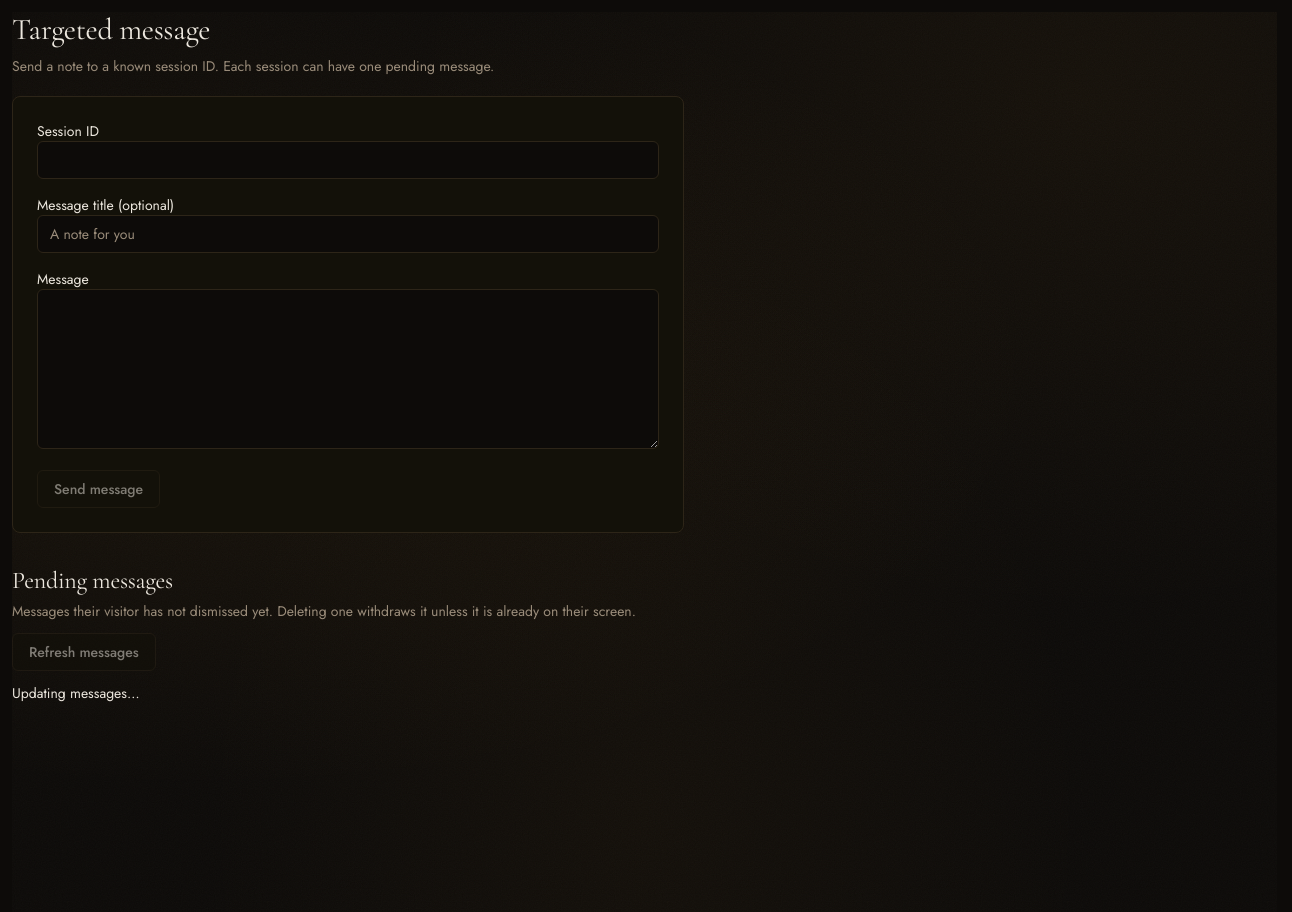
Test case: queues a message only once while pending and clears the form on success
The width and height of the screenshot is (1292, 912).
In the field labelled "Session ID": (348, 160) [37, 141, 659, 179], type " visitor-id "
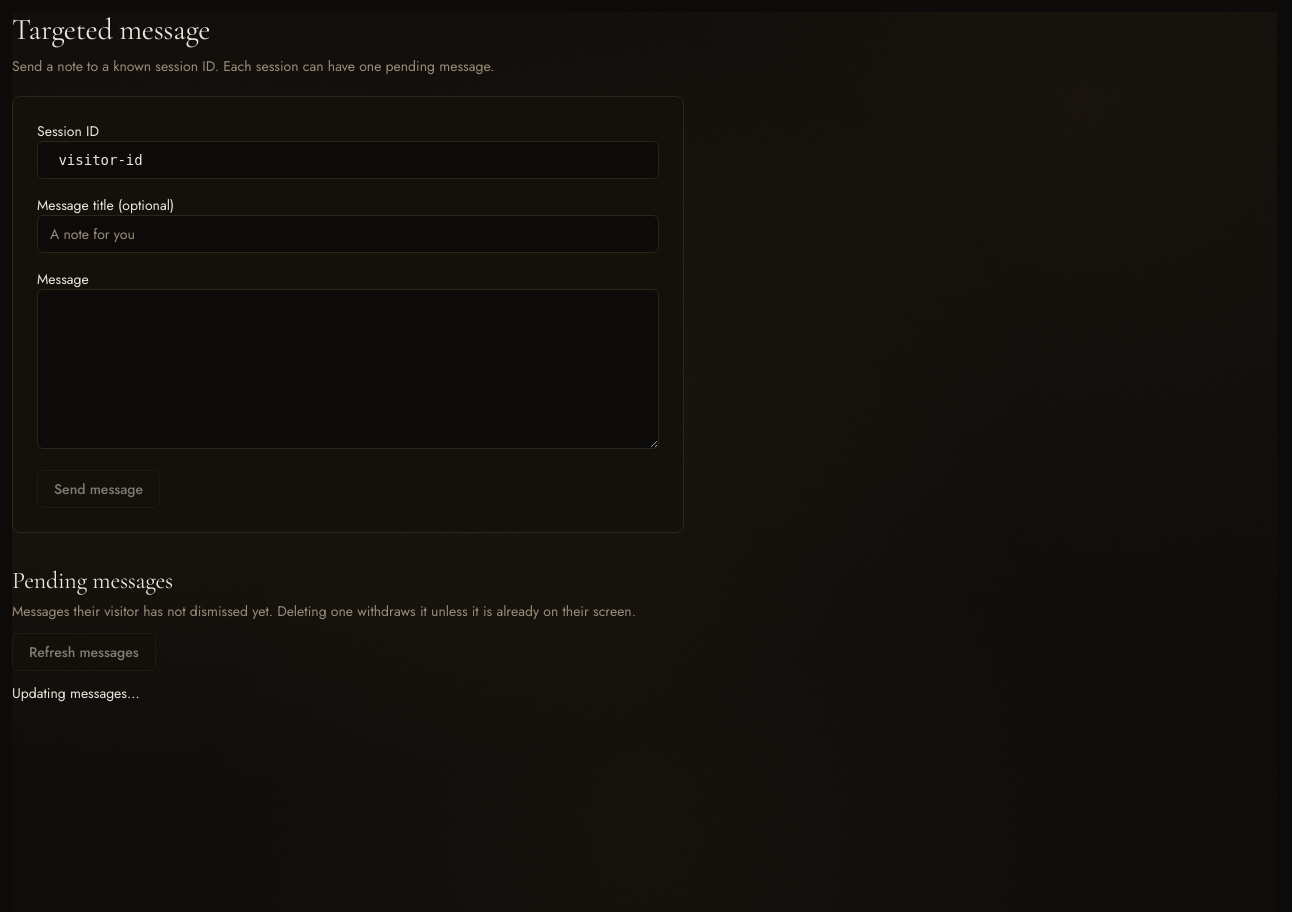
In the field labelled "Message title (optional)": (348, 234) [37, 215, 659, 253], type " Hello "
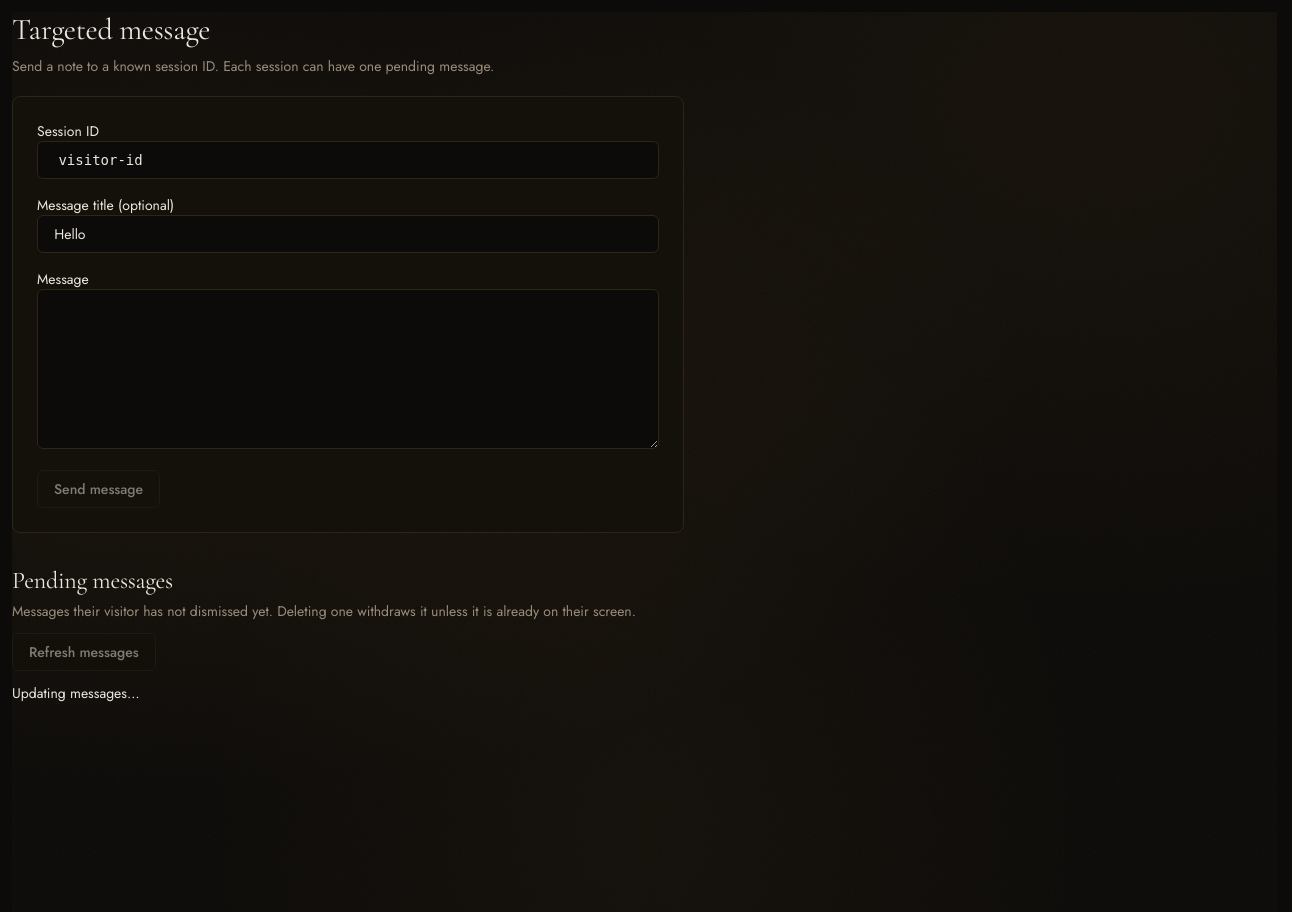
In the text box labelled "Message": (348, 369) [37, 289, 659, 449], type " A note "
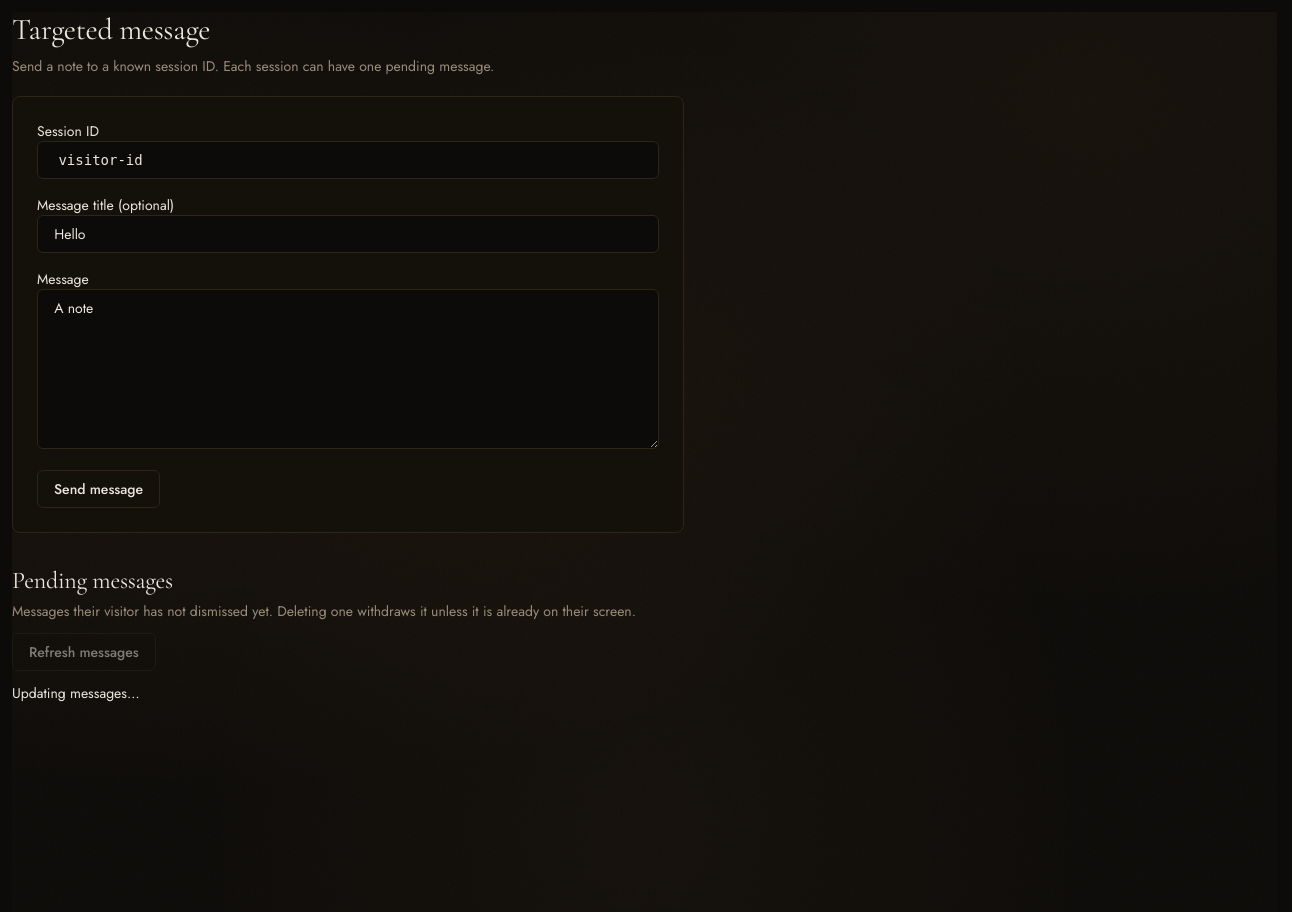
Click the button "Send message": click(99, 489) [37, 470, 160, 508]
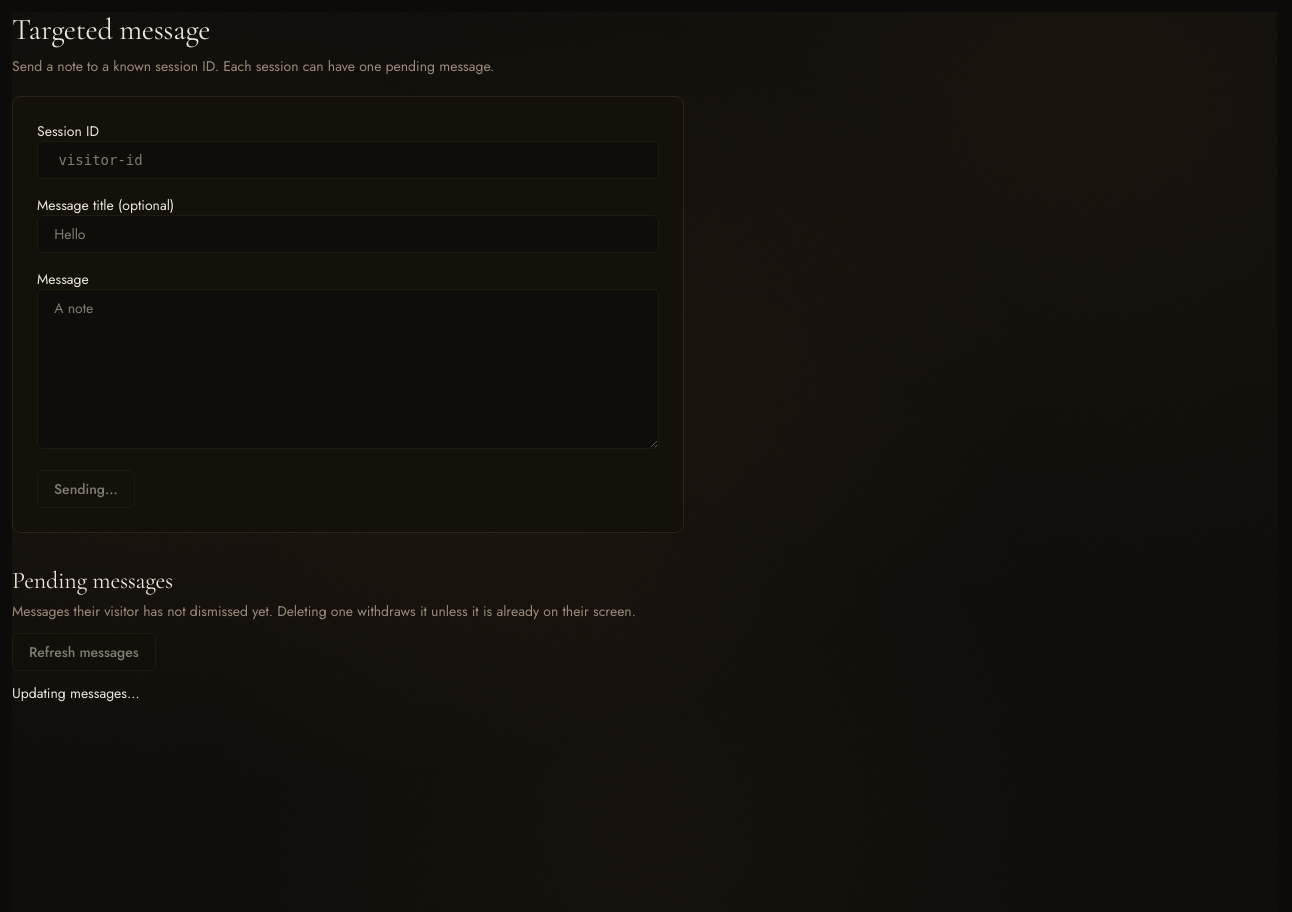
Submit the form labelled "Message", box [37, 121, 659, 508]
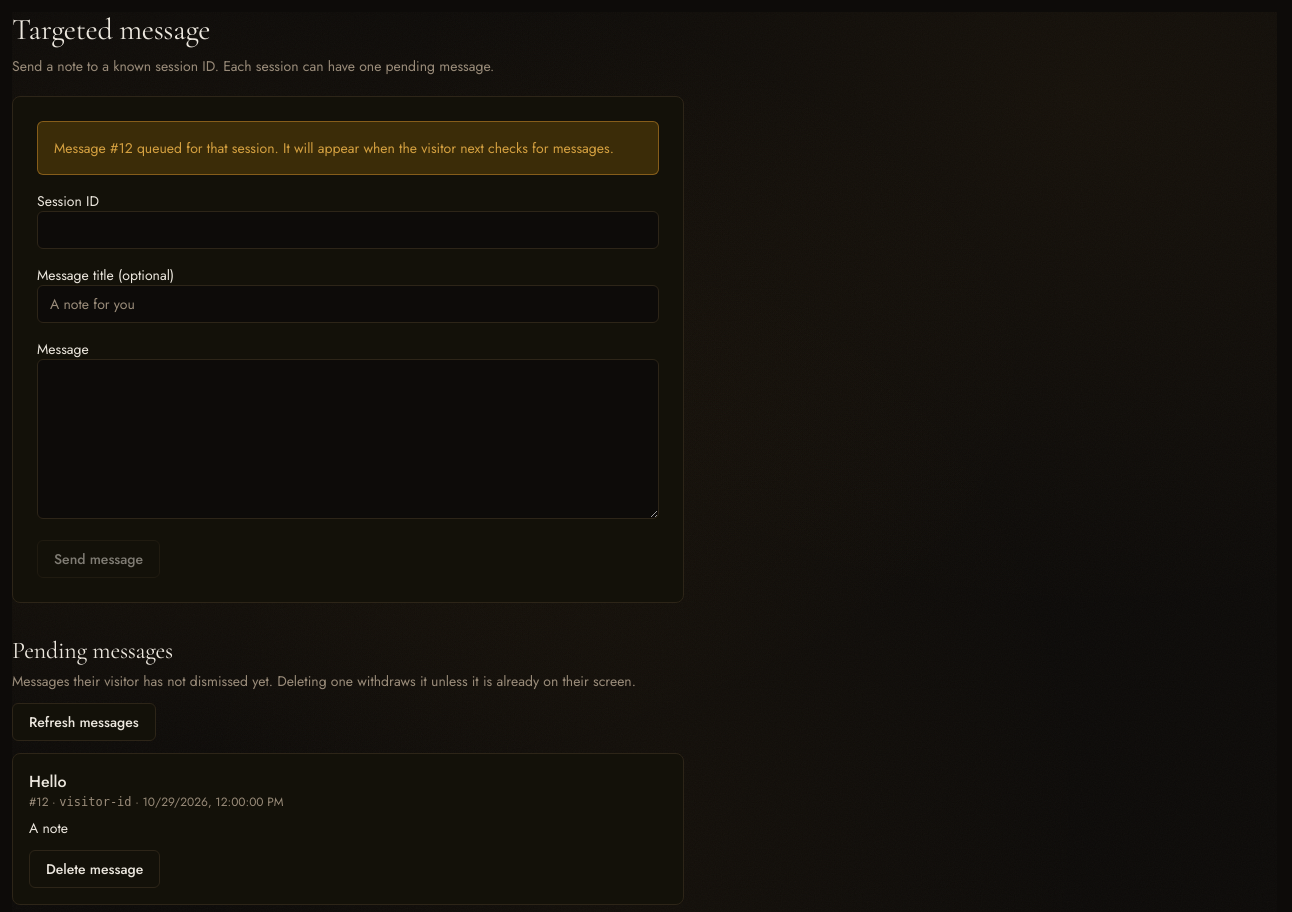
Now the text "Message #12 queued" is shown, box [54, 138, 614, 158]
Now the field labelled "Session ID" is empty, box [37, 211, 659, 249]
Now the text box labelled "Message" is empty, box [37, 359, 659, 519]
